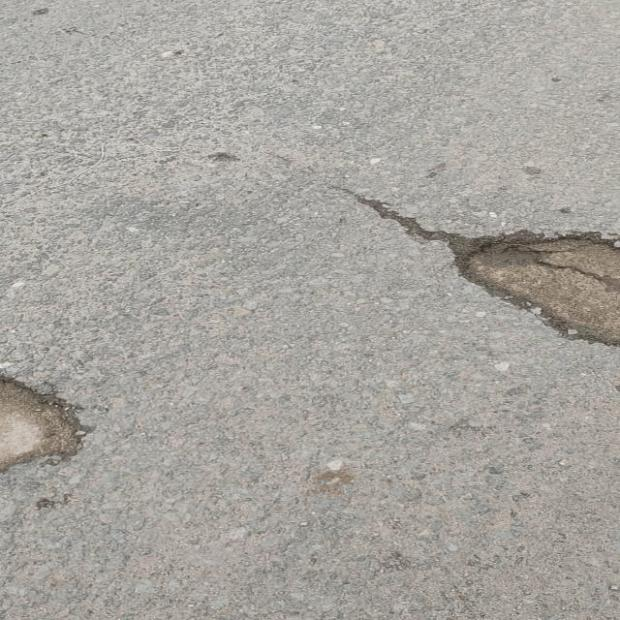lubang: (358, 197, 619, 345), (0, 376, 85, 472)
